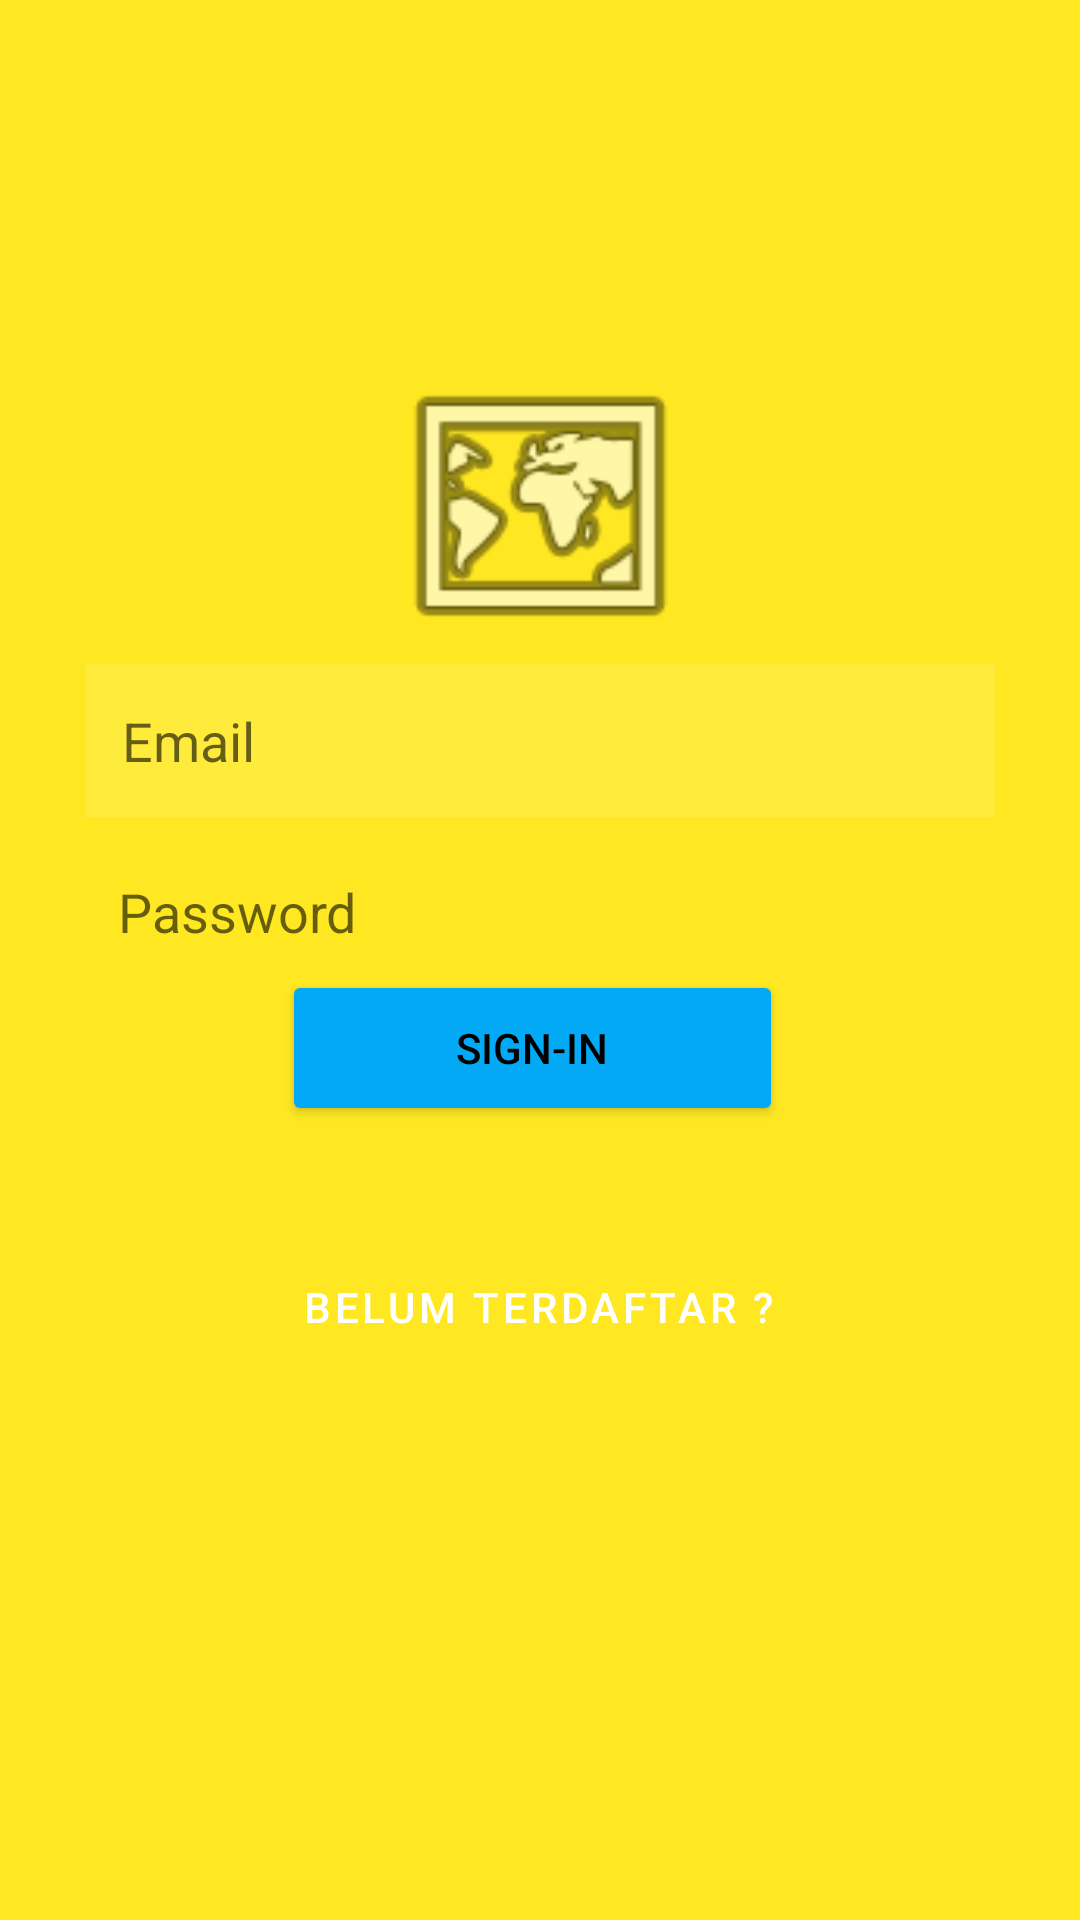

Locate icon controls on the screen. Image size 1080x1920, boxes as (x1, y1, x2, y2).
mapmode: (415, 396, 666, 616)
